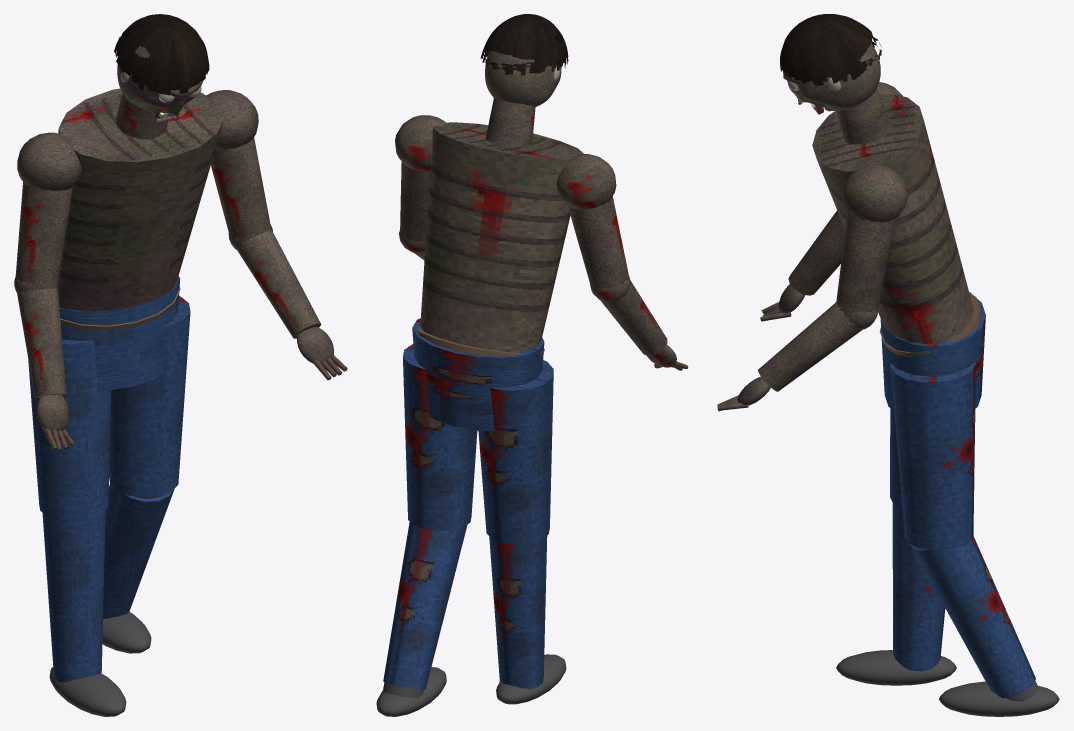
Rendered from Zombie_052.glb.
The picture shows the model from 3 angles, left to right: view 1: azimuth 30°, elevation 25°; view 2: azimuth 150°, elevation 25°; view 3: azimuth 270°, elevation 25°; orthographic projection. The views are drawn at different scales.
Parts seen in each view (by area): view 1: Zombie_052, object 42, object 3, object 10, object 16, object 11, object 4; view 2: Zombie_052, object 42, object 16, object 3, object 41, object 2; view 3: Zombie_052, object 42, object 10, object 16, object 3, object 11.
Boxes of the visible parts, x1,y1,x2,y2 form: Zombie_052: [15, 88, 270, 716]; object 42: [114, 14, 209, 93]; object 3: [17, 288, 66, 397]; object 10: [236, 230, 321, 338]; object 16: [117, 28, 203, 116]; object 11: [297, 327, 333, 363]; object 4: [36, 394, 69, 431]; Zombie_052: [376, 98, 628, 716]; object 42: [480, 14, 568, 72]; object 16: [485, 41, 561, 106]; object 3: [600, 280, 667, 355]; object 41: [482, 32, 565, 75]; object 2: [590, 276, 630, 301]; Zombie_052: [812, 82, 1059, 716]; object 42: [780, 14, 881, 83]; object 10: [758, 302, 862, 391]; object 16: [783, 43, 880, 111]; object 3: [788, 210, 844, 295]; object 11: [737, 376, 770, 405].
Size of the model in its own units: 0.7223 by 1.76 by 0.8003.
Materials: 16 (6 with a texture image).
